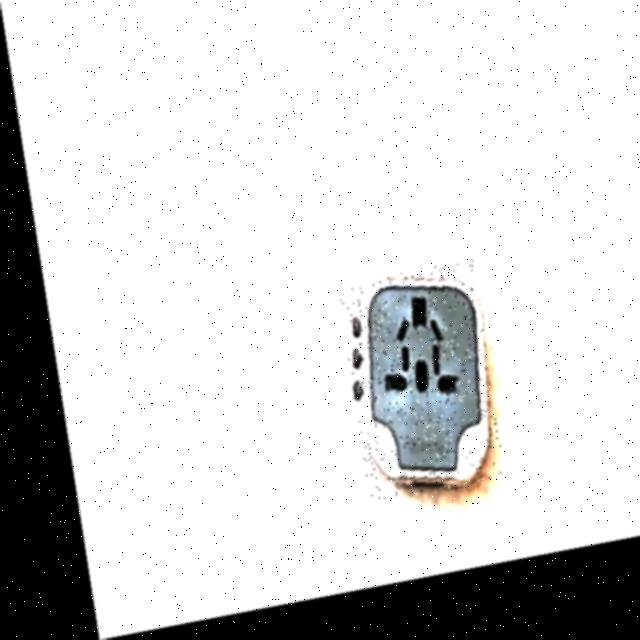adapter: (326, 276, 489, 515)
